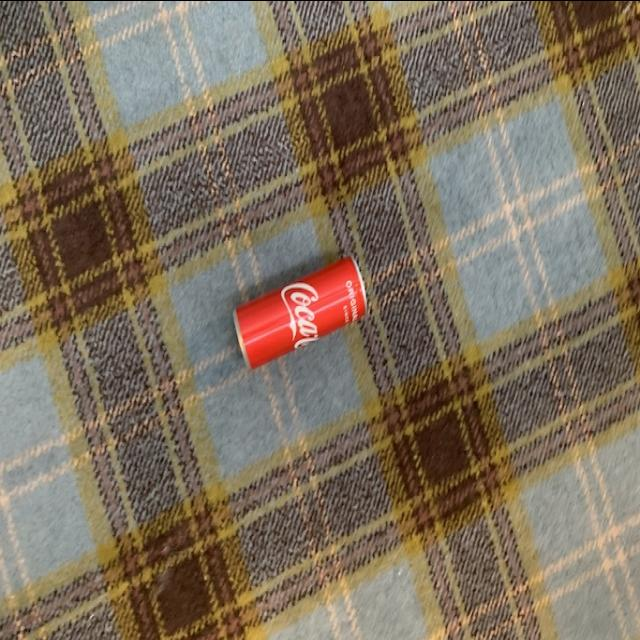litter: (234, 244, 370, 365)
